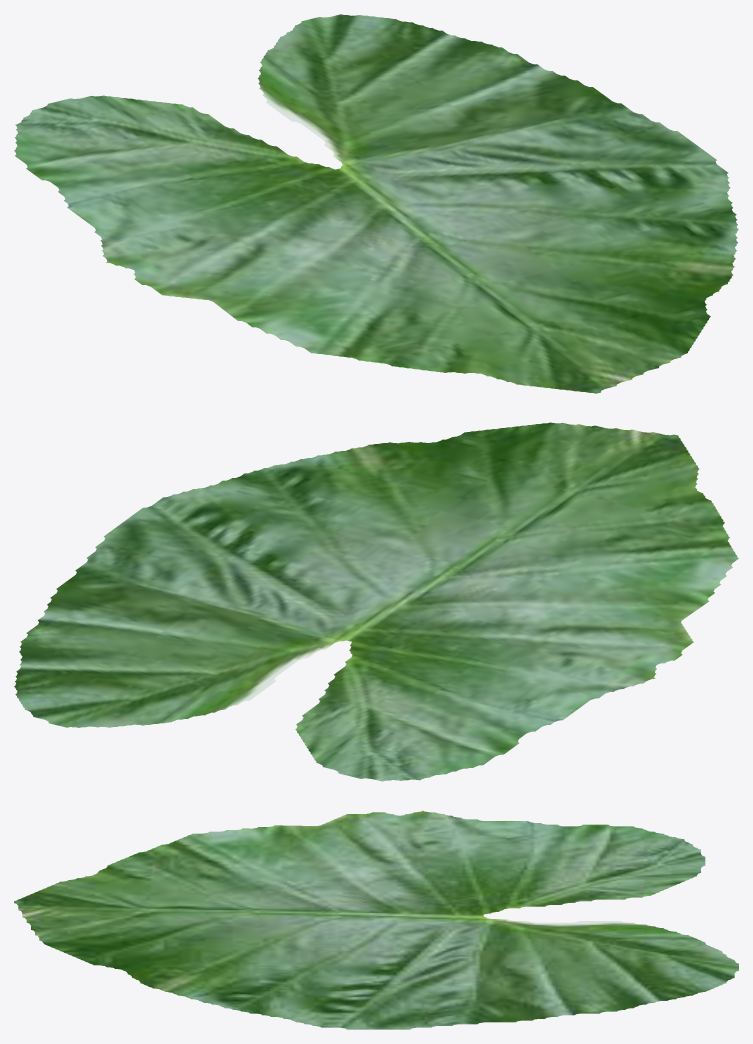
File: alcosia.fbx
The picture shows the model from 3 angles, top to bottom: view 1: azimuth 30°, elevation 25°; view 2: azimuth 150°, elevation 25°; view 3: azimuth 270°, elevation 25°; orthographic projection. The views are drawn at different scales.
Visible parts, largest first — view 1: Plane.001; view 2: Plane.001; view 3: Plane.001.
Part boxes in pixels (x1=…): Plane.001: x1=14, y1=14, x2=738, y2=393; Plane.001: x1=14, y1=422, x2=738, y2=781; Plane.001: x1=14, y1=810, x2=738, y2=1029.
Size of the model in its own units: 322 by 0.3538 by 451.
Materials: 1 (1 with a texture image).
